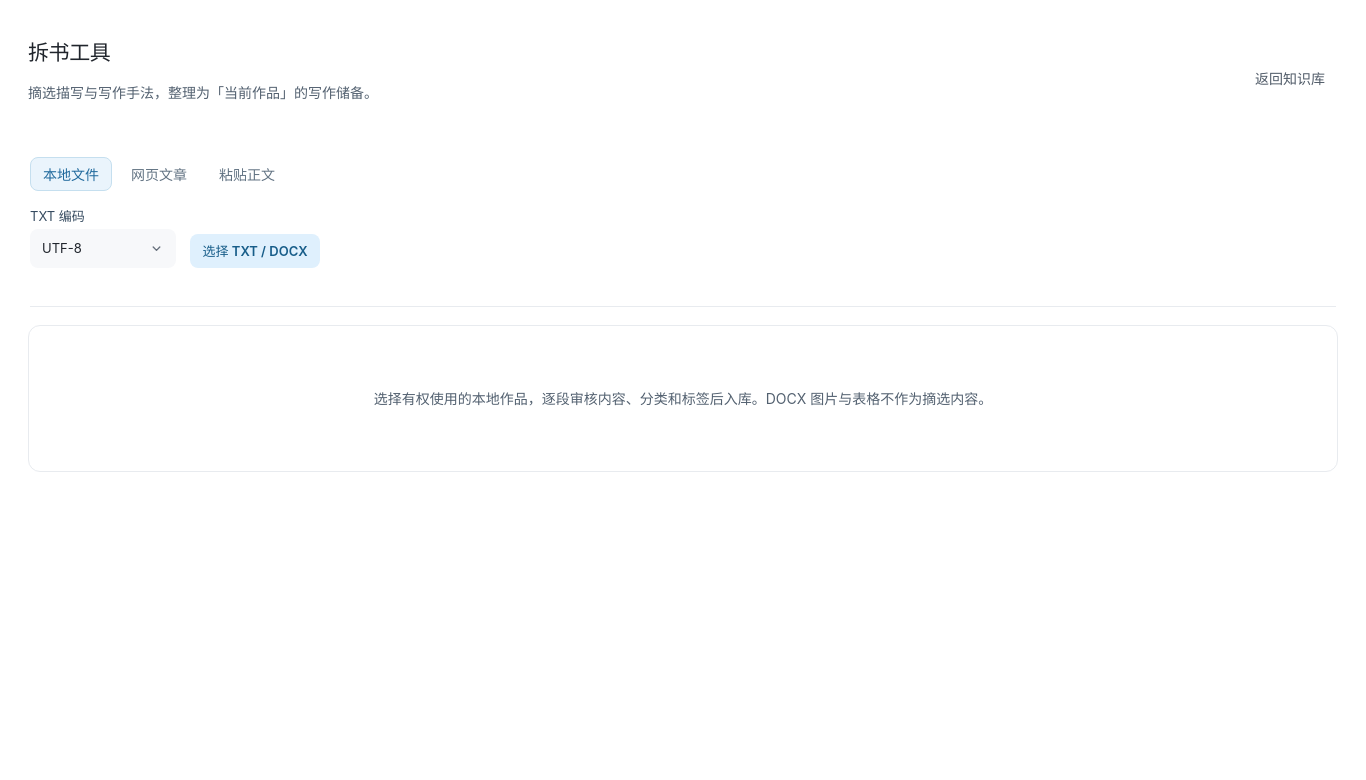
Test: 网页和粘贴入口保留真实主进程预览，阅读与审核为两个区域
Click the button "网页文章" at (159,174), box [118,157,200,191]
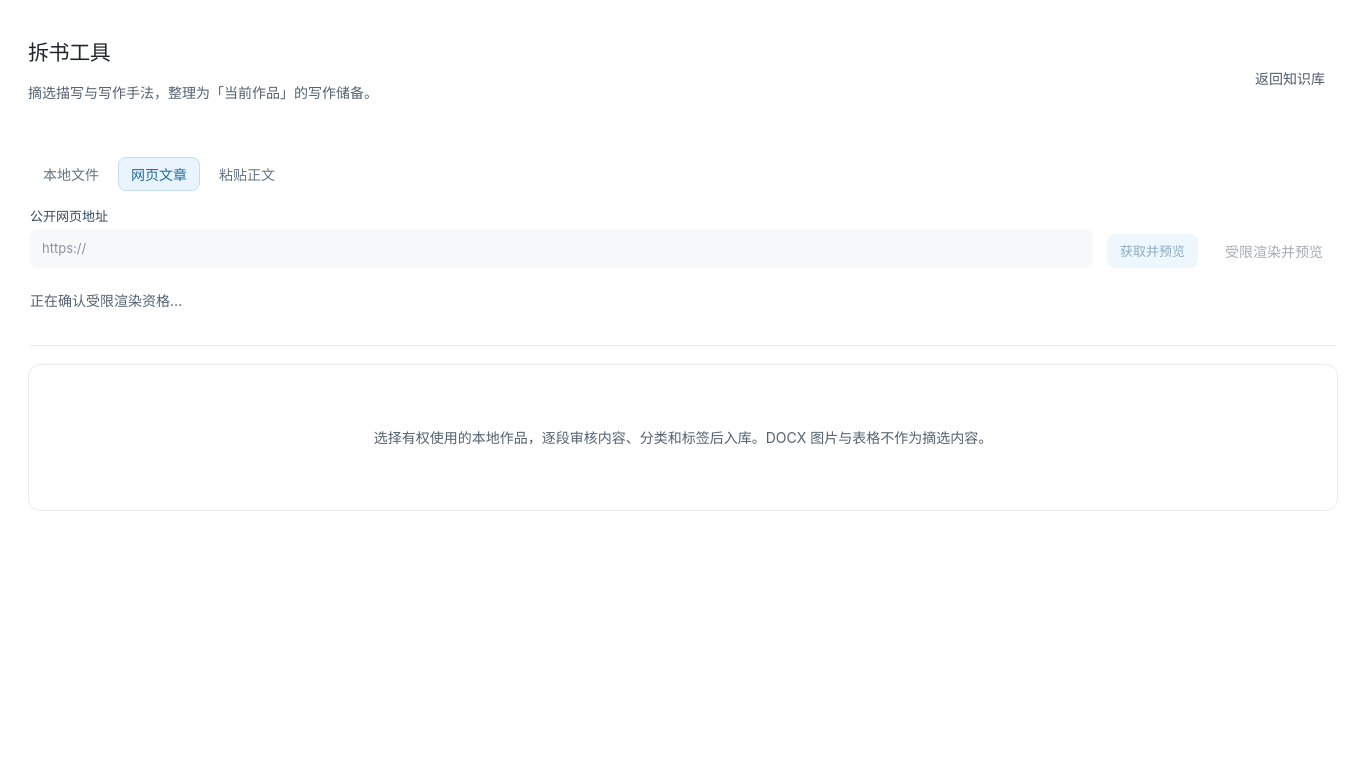
Type "https://article.example.com/read" into the field labelled "公开网页地址" at (562,248), box [30,229,1093,268]
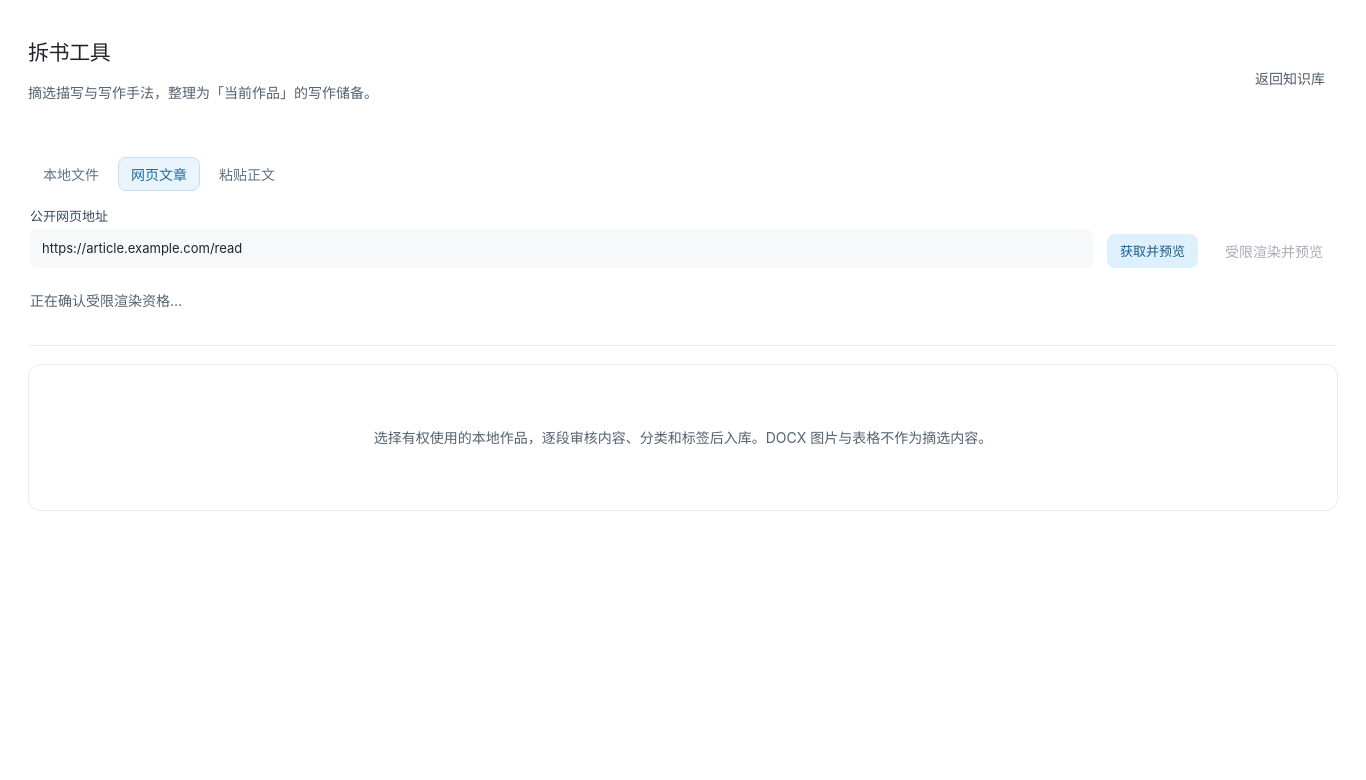
Click the button "获取并预览" at (1152,251), box [1107,234,1198,268]
(page scrolled)
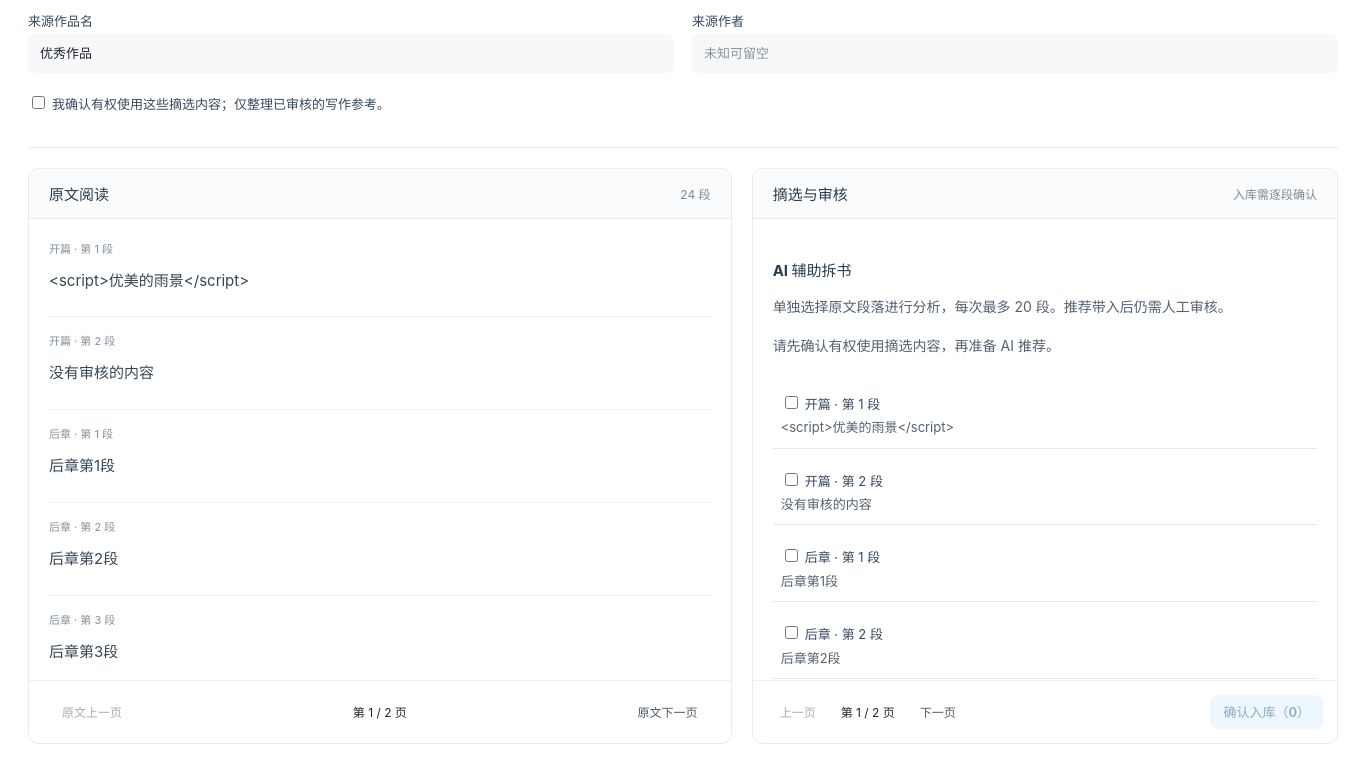
Now the element "原文阅读" is shown, box [28,168,732,744]
Now the element named "摘选审核" is shown, box [752,168,1338,744]
Click the button "原文下一页" at (668,712), box [625,694,711,728]
(page scrolled)
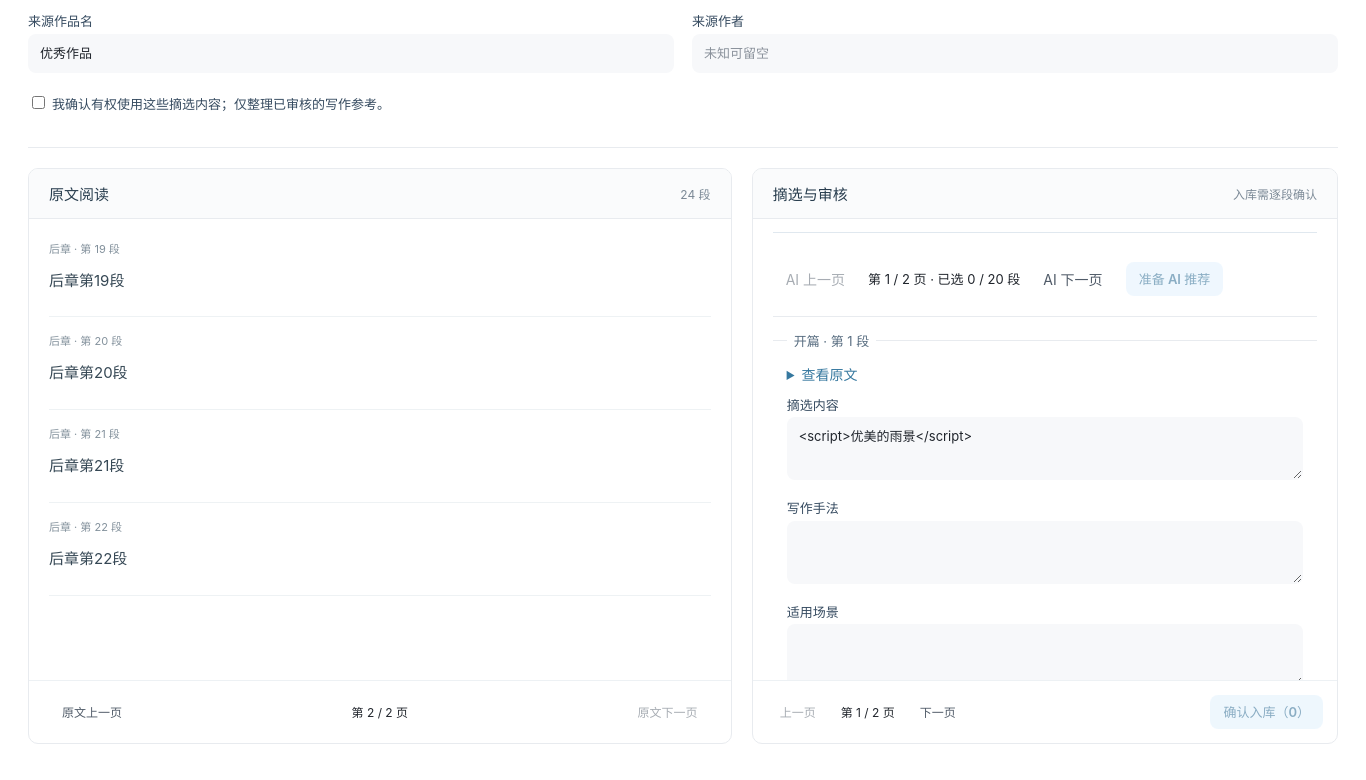
Now the text "后章第22段" is shown, box [49,549,127,568]
Now the text box named "摘选内容 1" is shown, box [787,417,1303,480]
